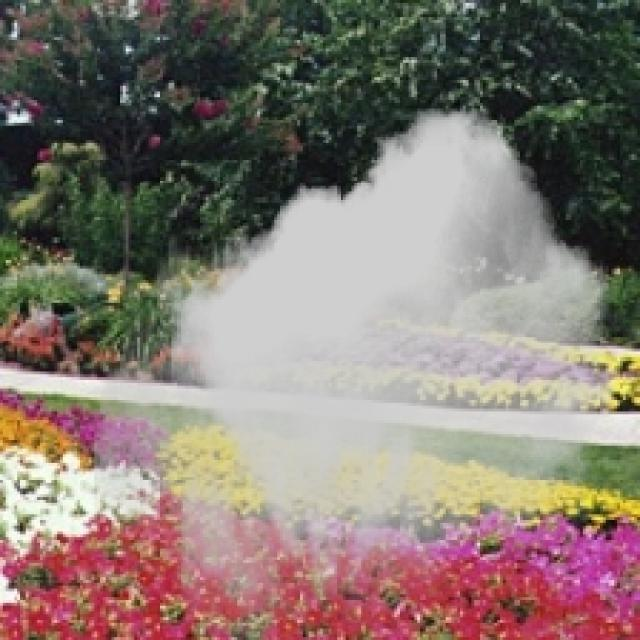Smoke: (94, 108, 620, 638)
